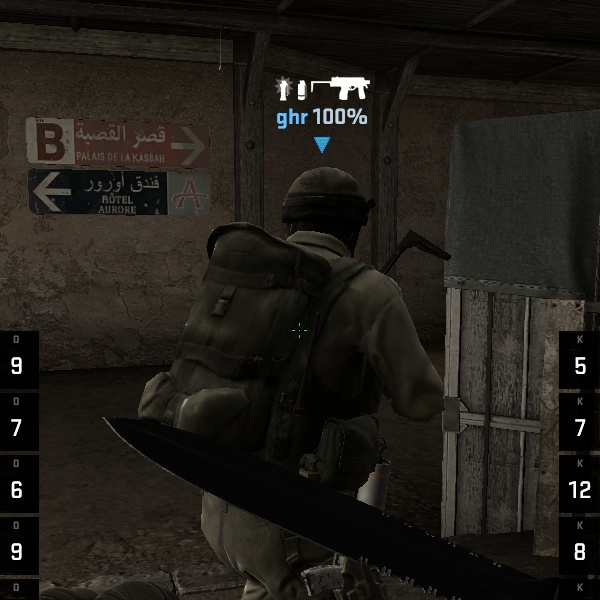ct_body: (159, 142, 435, 600)
ct_head: (265, 149, 384, 281)
